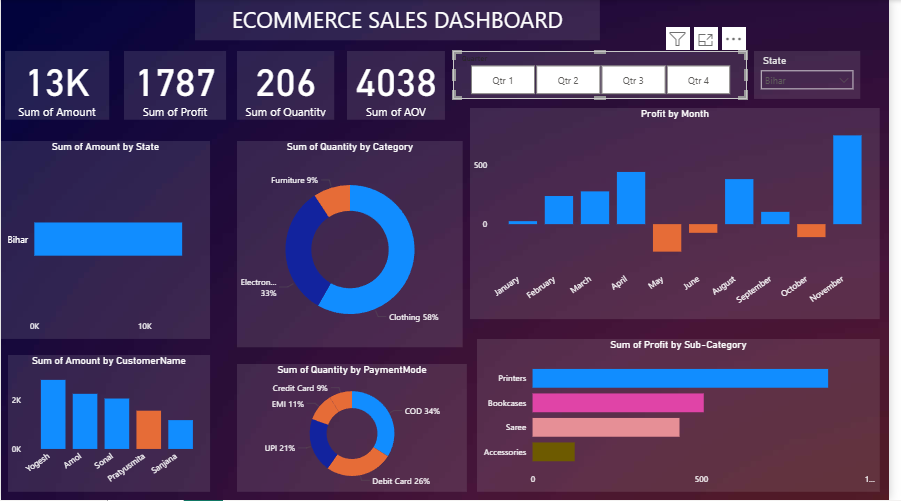

This screenshot's page, from the dashboard's own definition file:
{"tool":"powerbi","page":{"name":"Page 1","canvas":[1280,720],"ordinal":0},"visuals":[{"type":"columnChart","title":"Profit by Month","fields":{"Category":["Orders.Order Date.Variation.Date Hierarchy.Month"],"Y":["Details.Profit"]},"box":[675.4,155.5,590.4,303.8],"z":0},{"type":"barChart","fields":{"Category":["Details.Sub-Category"],"Y":["Details.Profit"]},"box":[685.4,488.2,580.3,220.3],"z":1000},{"type":"donutChart","fields":{"Category":["Details.Category"],"Y":["Details.Quantity"]},"box":[339.8,203,325.4,296.6],"z":2000},{"type":"donutChart","fields":{"Y":["Details.Quantity"],"Category":["Details.PaymentMode"]},"box":[339.8,524.2,331.2,184.3],"z":3000},{"type":"card","fields":{"Values":["Details.Profit"]},"box":[177.1,73.4,146.9,99.4],"z":4000},{"type":"card","fields":{"Values":["Details.Amount"]},"box":[5.8,73.4,149.8,99.4],"z":5000},{"type":"card","fields":{"Values":["Details.Quantity"]},"box":[339.8,73.4,139.7,99.4],"z":6000},{"type":"card","fields":{"Values":["Details.AOV"]},"box":[498.2,73.4,141.1,99.4],"z":7000},{"type":"barChart","fields":{"Category":["Orders.State"],"Y":["Details.Amount"]},"box":[0,203,301,285.1],"z":8000},{"type":"columnChart","fields":{"Category":["Orders.CustomerName"],"Y":["Details.Amount"]},"box":[10.1,511.2,290.9,197.3],"z":9000},{"type":"textbox","box":[279.4,0,583.2,57.6],"z":10000},{"type":"slicer","fields":{"Values":["Orders.Order Date.Variation.Date Hierarchy.Quarter"]},"box":[650.9,73.4,423.4,69.1],"z":11000},{"type":"slicer","fields":{"Values":["Orders.State"]},"box":[1084.3,73.4,152.6,69.1],"z":12000}]}

Visuals, with their boxes in screenshot pixels (x1, y1, x2, y2), scaled from the page's 1280x720 canvas onto the 901x501 screenshot:
"Profit by Month" columnChart: detection(475, 108, 891, 320)
barChart - Details.Sub-Category x Details.Profit: detection(482, 340, 891, 493)
donutChart - Details.Category x Details.Quantity: detection(239, 141, 468, 348)
donutChart - Details.Quantity x Details.PaymentMode: detection(239, 365, 472, 493)
card - Details.Profit: detection(125, 51, 228, 120)
card - Details.Amount: detection(4, 51, 110, 120)
card - Details.Quantity: detection(239, 51, 338, 120)
card - Details.AOV: detection(351, 51, 450, 120)
barChart - Orders.State x Details.Amount: detection(0, 141, 212, 340)
columnChart - Orders.CustomerName x Details.Amount: detection(7, 356, 212, 493)
textbox: detection(197, 0, 607, 40)
slicer - Orders.Order Date.Variation.Date Hierarchy.Quarter: detection(458, 51, 756, 99)
slicer - Orders.State: detection(763, 51, 871, 99)
